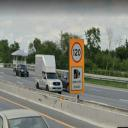speed_limit_120: (69, 40, 84, 66)
